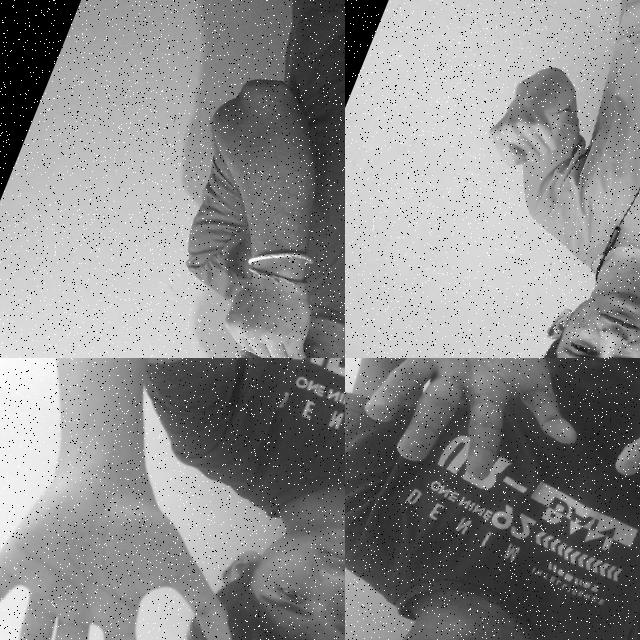Chin Flick: (149, 250, 345, 358)
Dulya: (471, 70, 583, 192)
Moutza: (0, 404, 291, 640), (345, 358, 616, 523), (577, 358, 640, 640)
